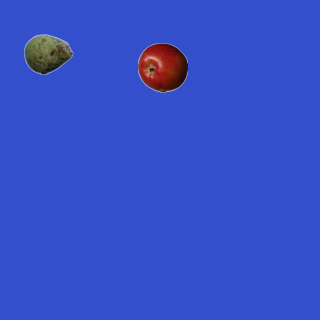Apple Braeburn: (137, 42, 187, 92)
Pear Stone: (23, 29, 73, 79)
